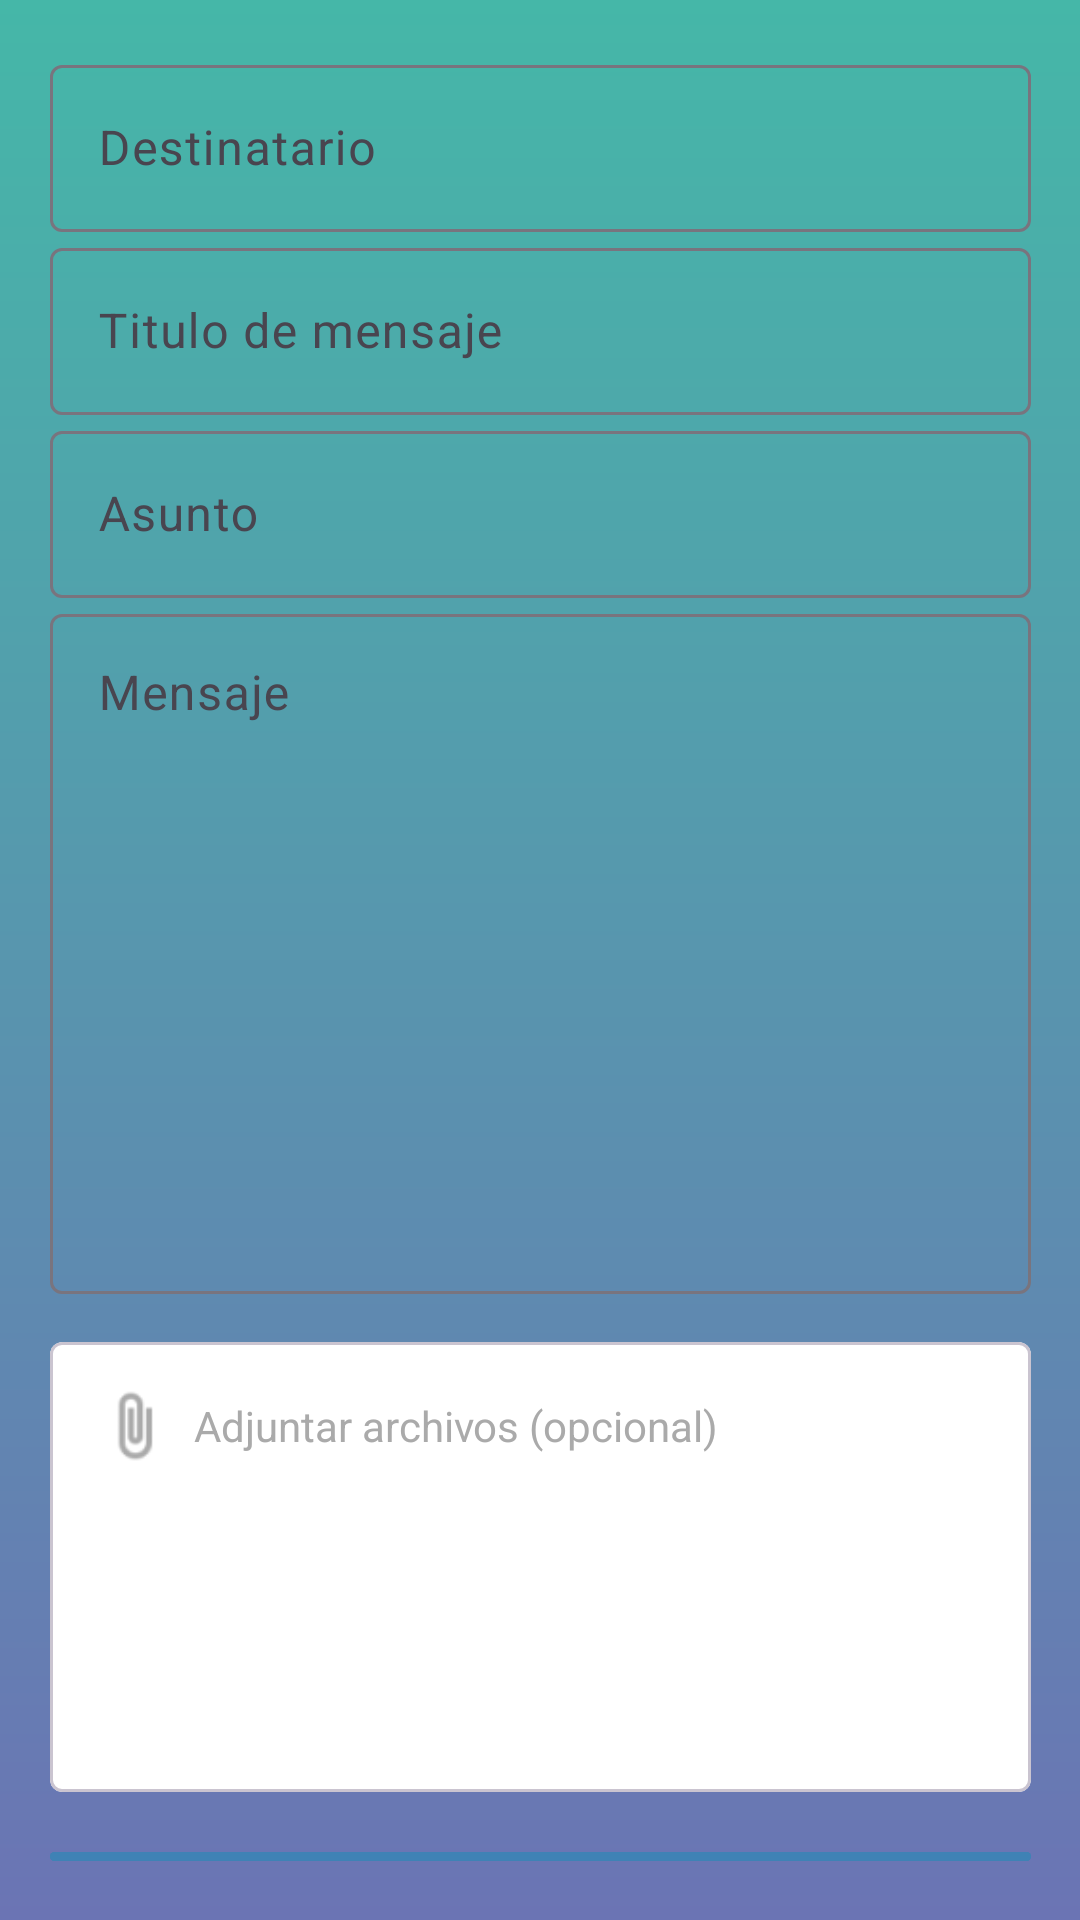

Locate icon controls on the screen. Image size 1080px×1920px, boxes as (x1, y1, x2, y2).
attach file: (118, 1392, 152, 1460)
